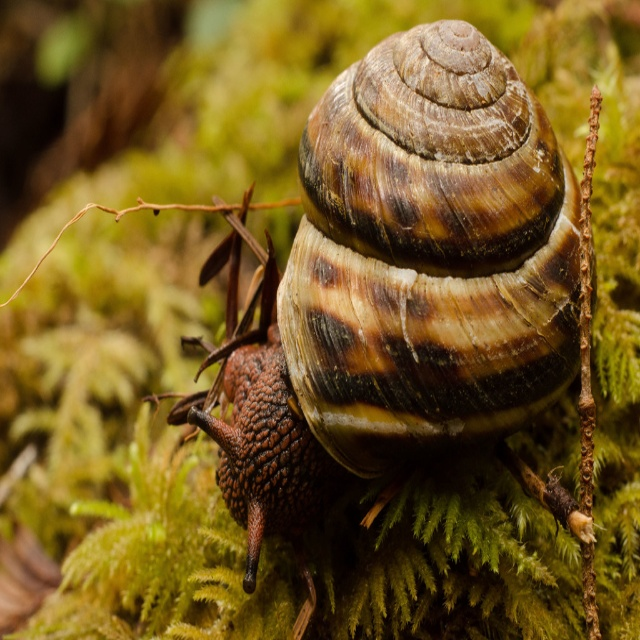Snail: (187, 20, 597, 594)
